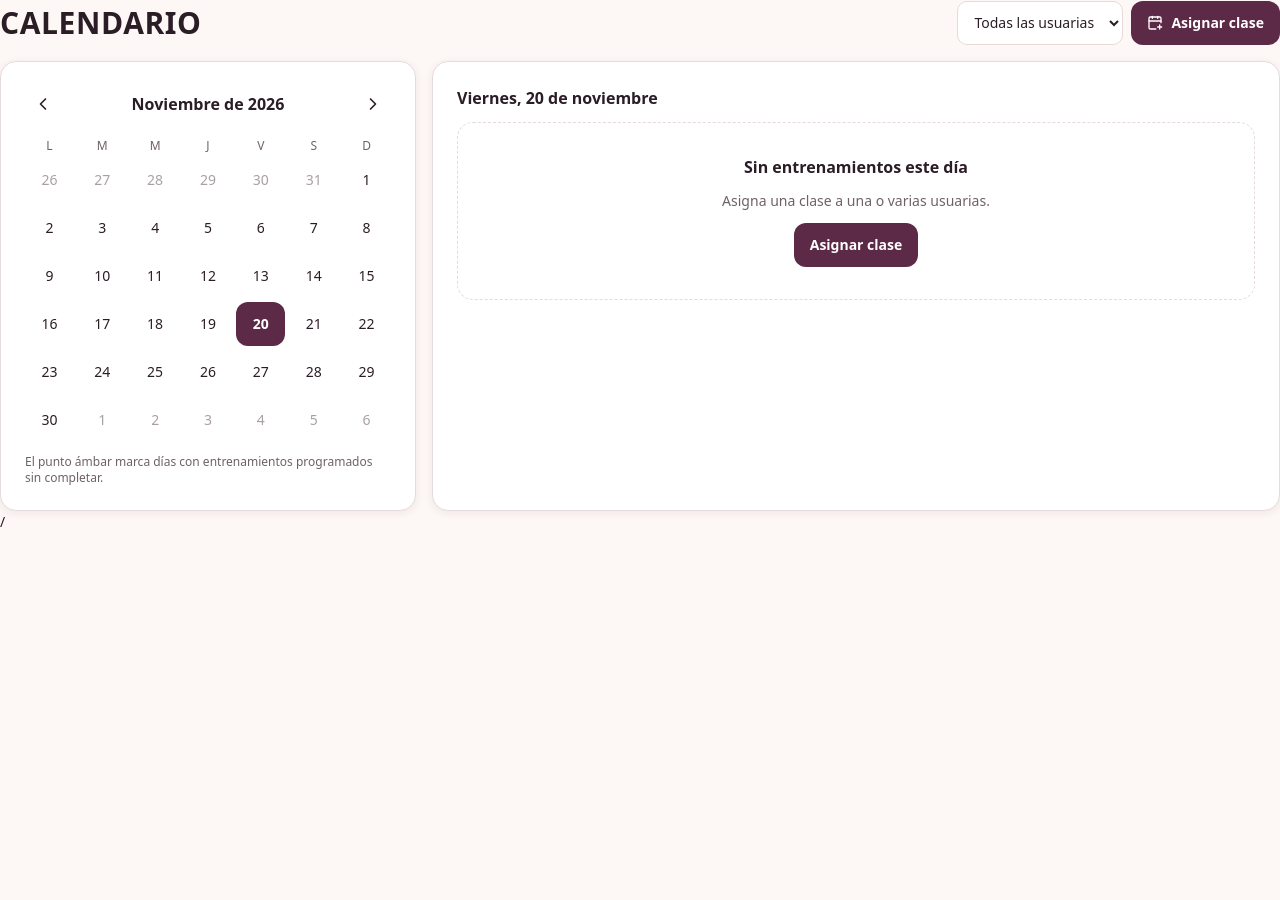
Scenario: CoachCalendarPage (HU-10) › asigna una clase a varias usuarias y muestra a quién no se pudo
The image size is (1280, 900).
Click the button "Asignar clase" in the row of "Calendario" at [1206, 22], box [1131, 0, 1279, 44]
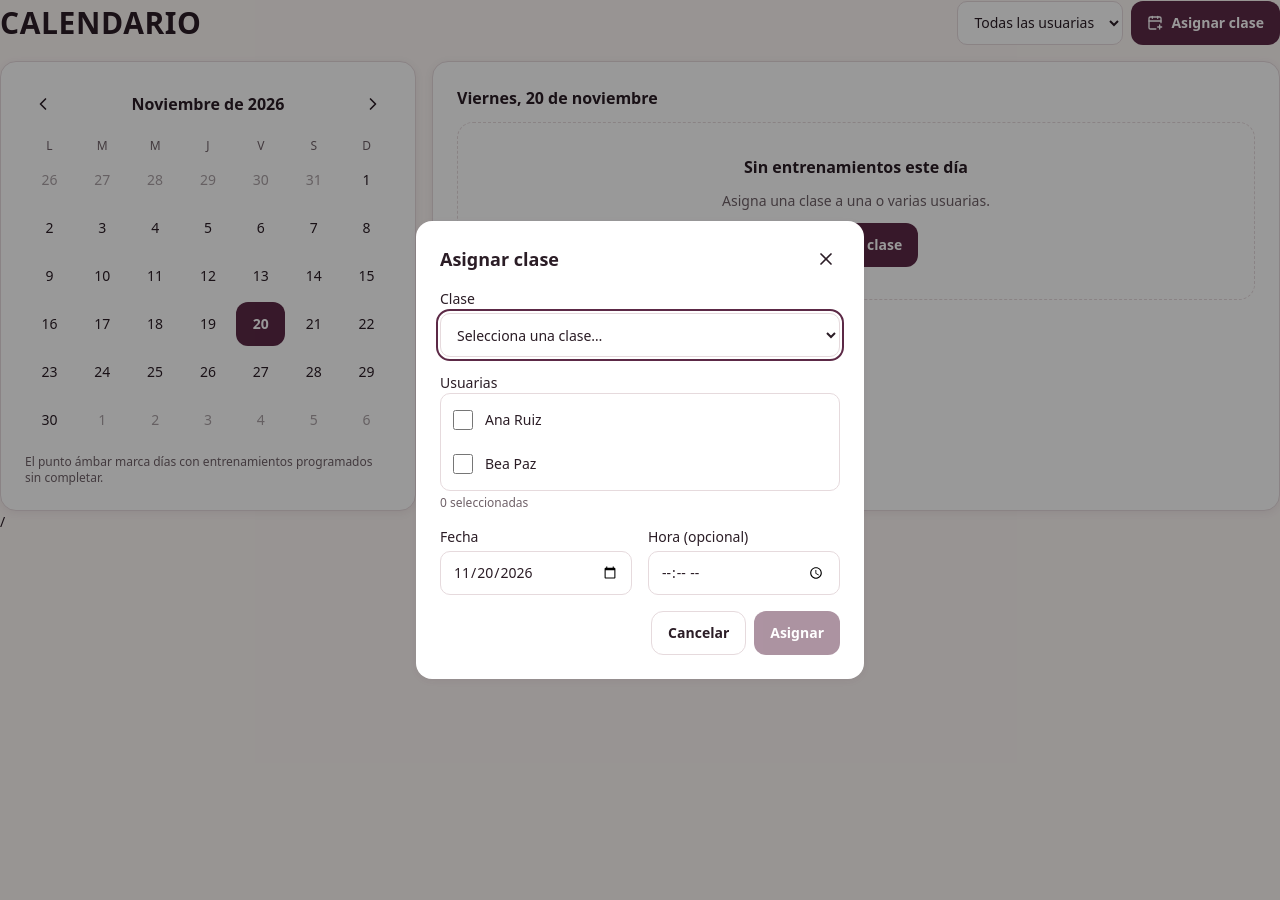
Select "Full Body (55 min)" in the dropdown labelled "Clase" at [640, 335], box [440, 313, 840, 357]
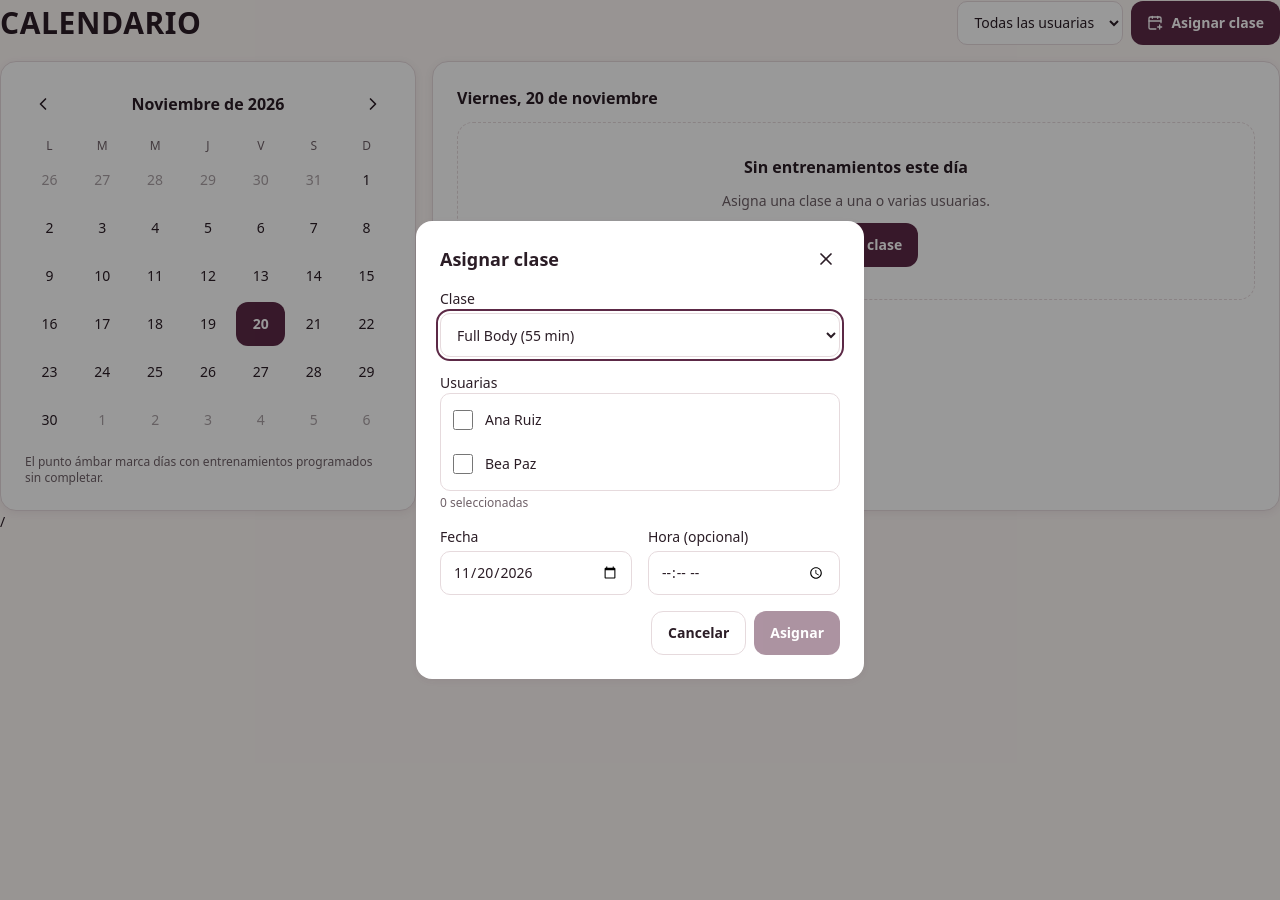
Click the checkbox labelled "Ana Ruiz" at [463, 420], box [453, 410, 473, 430]
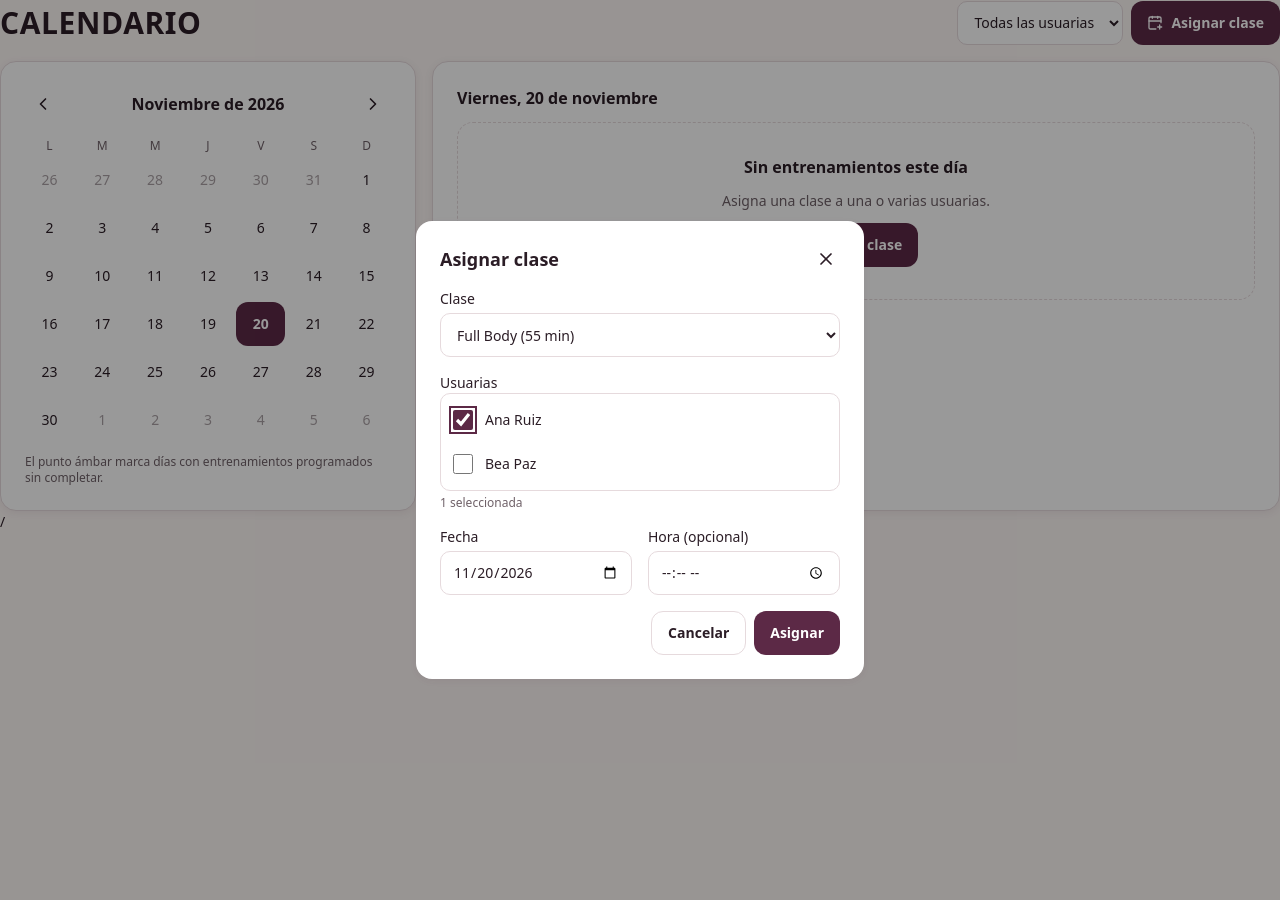
Click the checkbox labelled "Bea Paz" at [463, 464], box [453, 454, 473, 474]
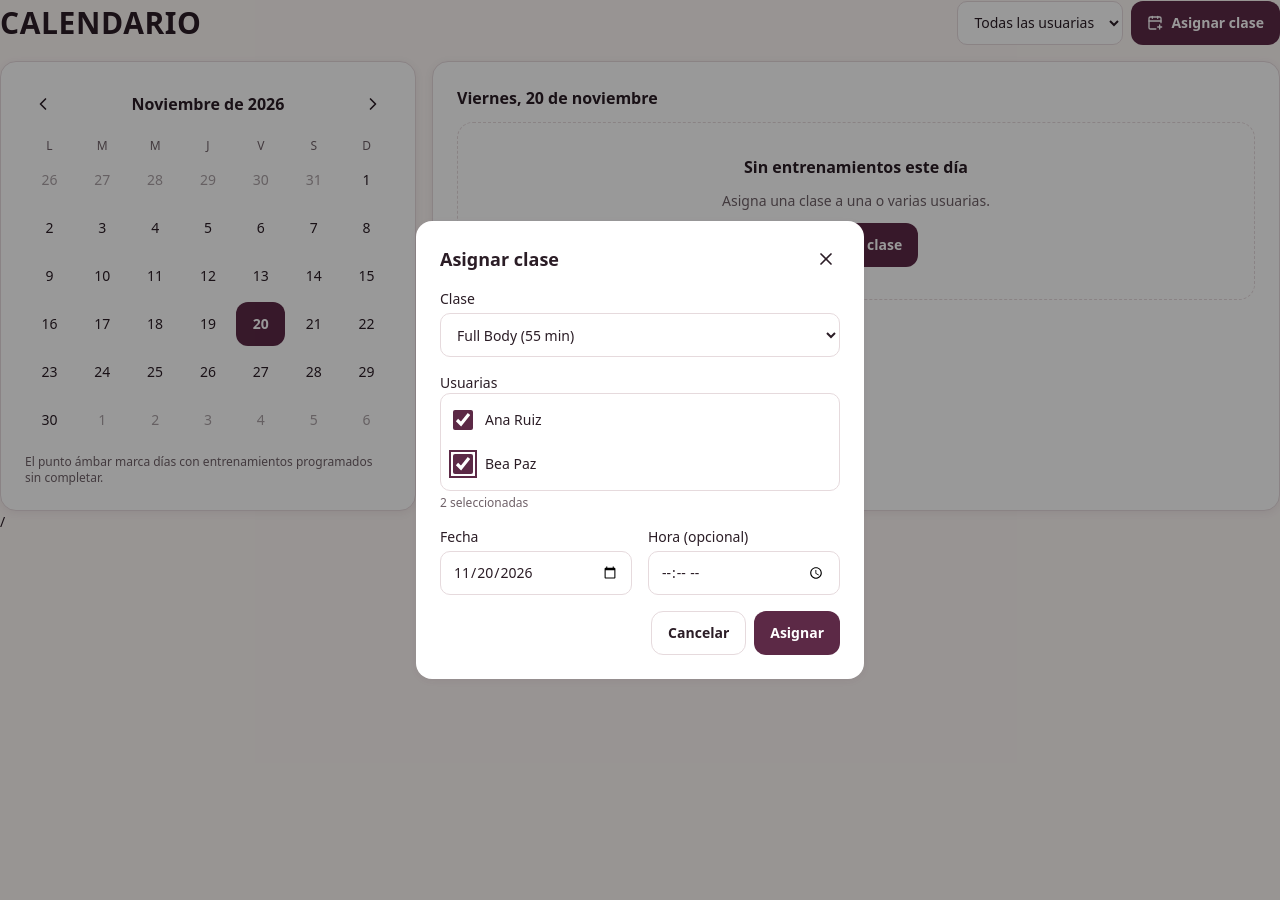
Click the button "Asignar" at [797, 633], box [754, 611, 840, 655]
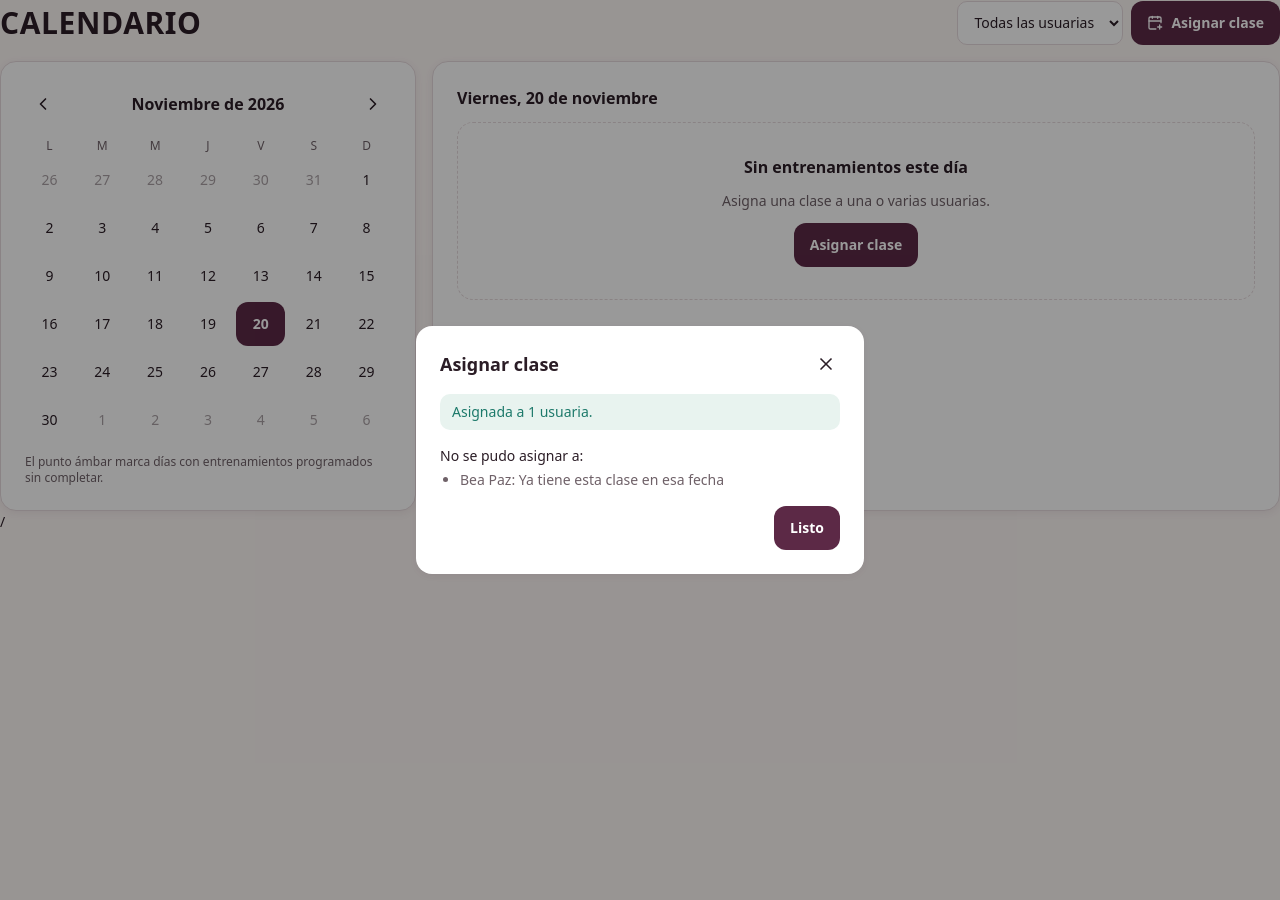
Now the list item "Bea Paz: Ya tiene esta clase en esa fecha" is shown, box [460, 470, 724, 489]
